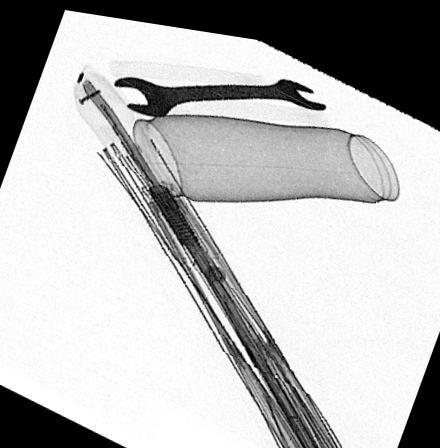Wrench: (112, 70, 328, 114)
